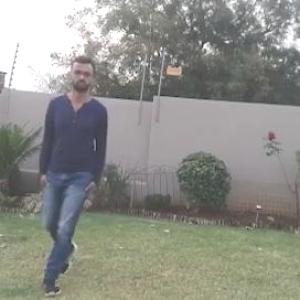follow: (48, 41, 140, 299)
